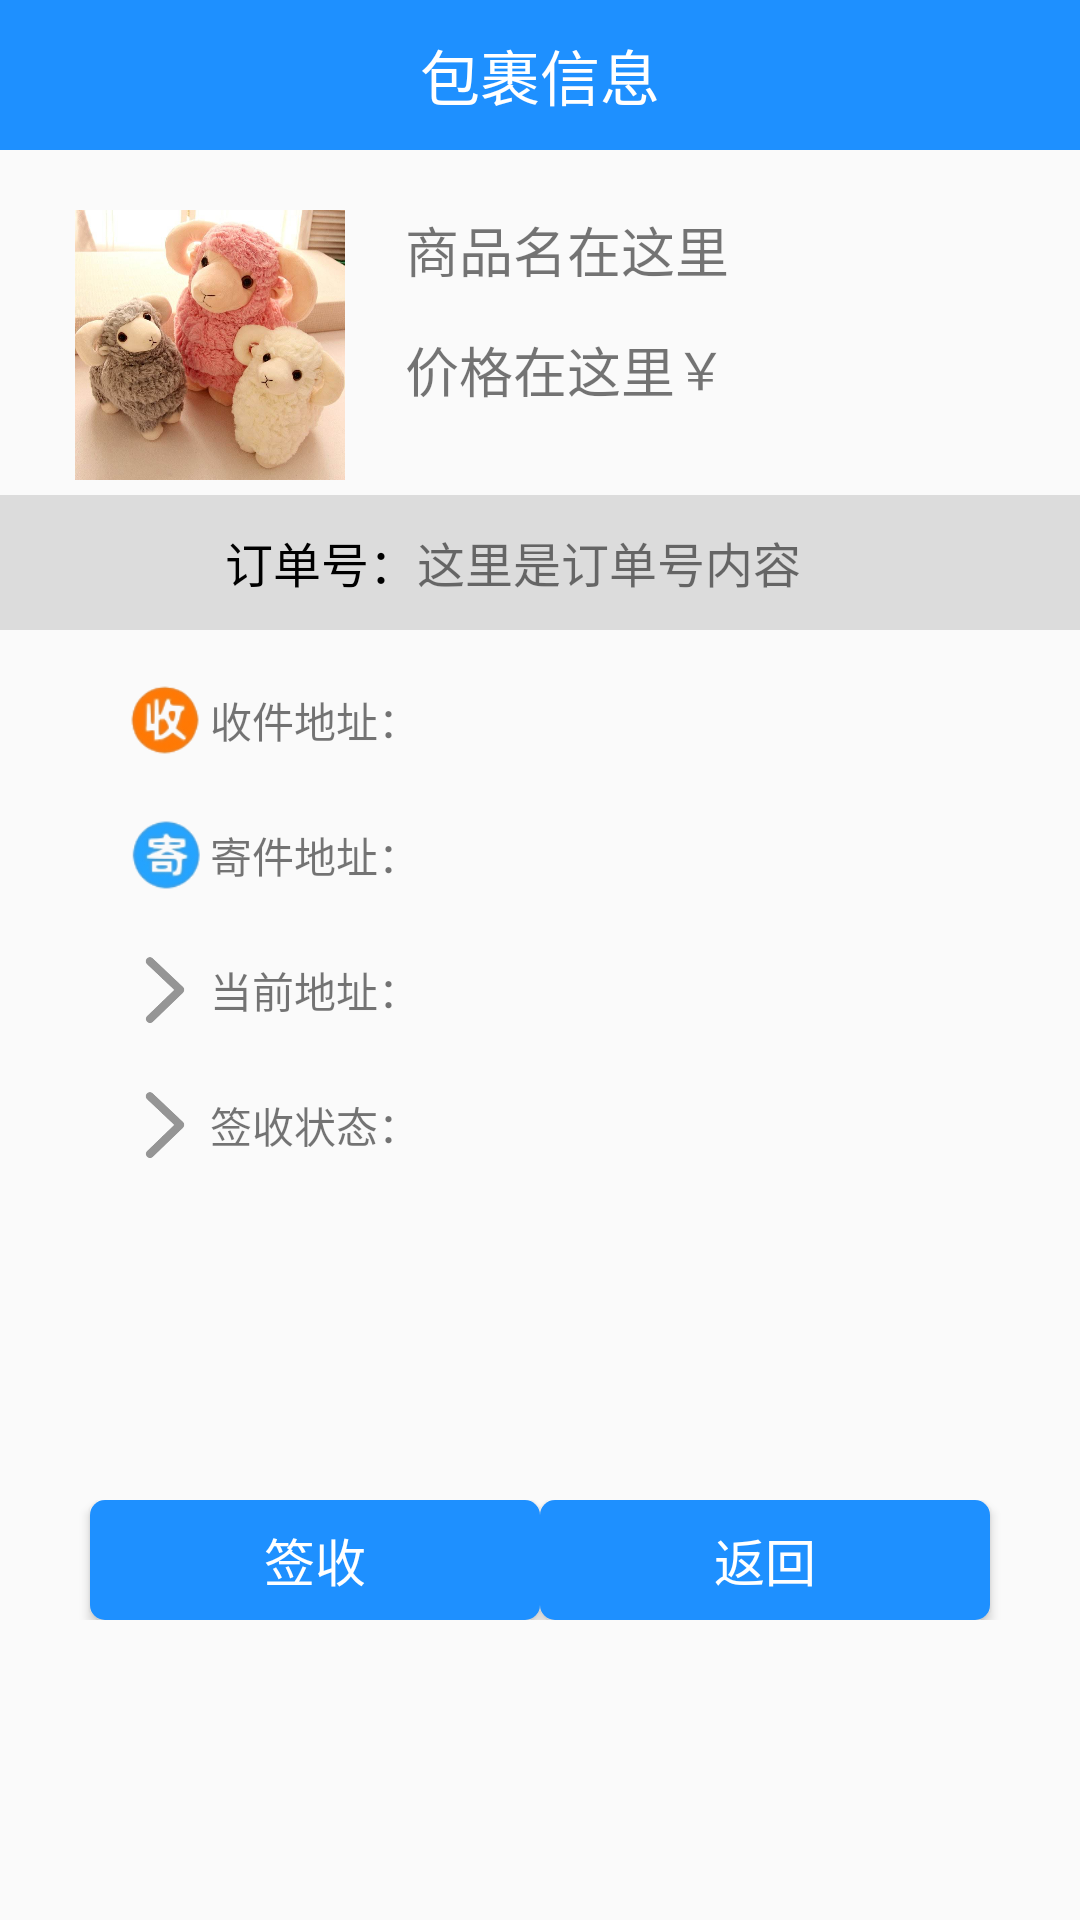

Screen size 1080w x 1920h. Icon name, then its center in pixels as (x=x, y=y):
yangwanou: (x=210, y=345)
youjiantou: (x=165, y=990), (x=165, y=1125)
